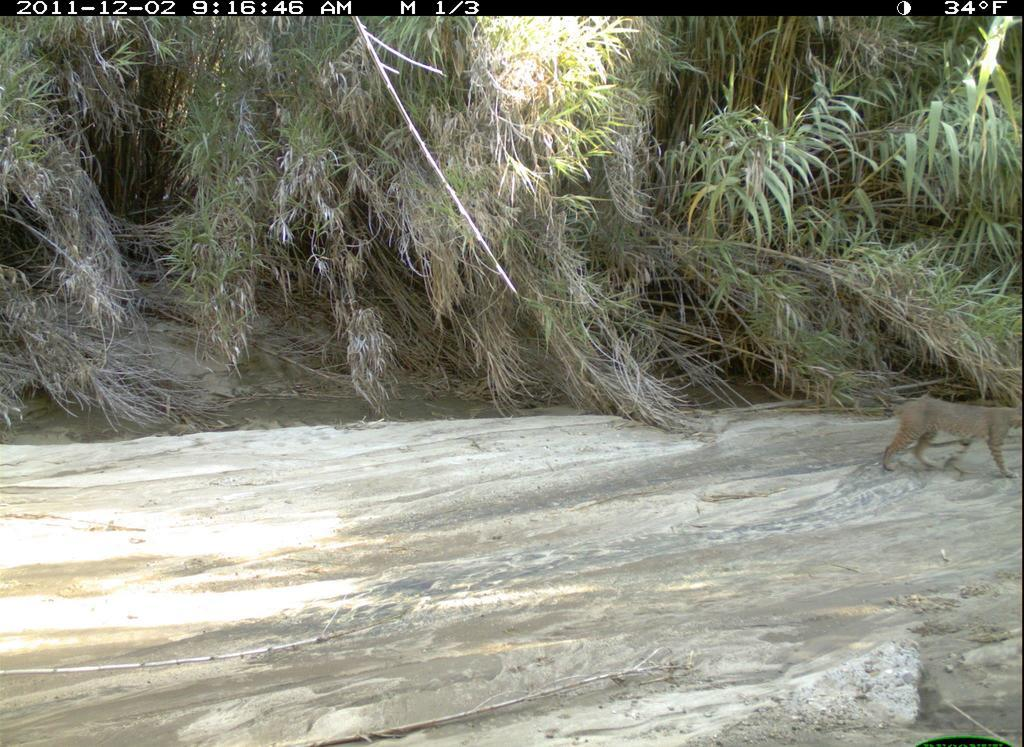bobcat: (866, 378, 1024, 488)
